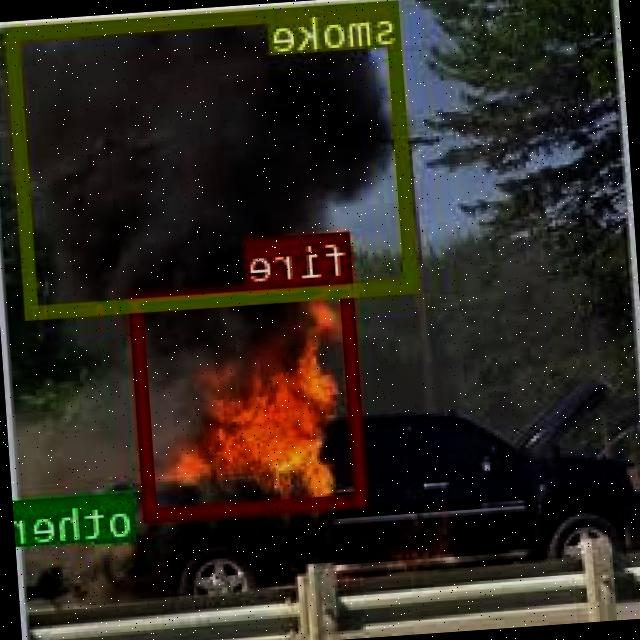fire: (130, 276, 369, 518)
smoke: (8, 0, 419, 316)
